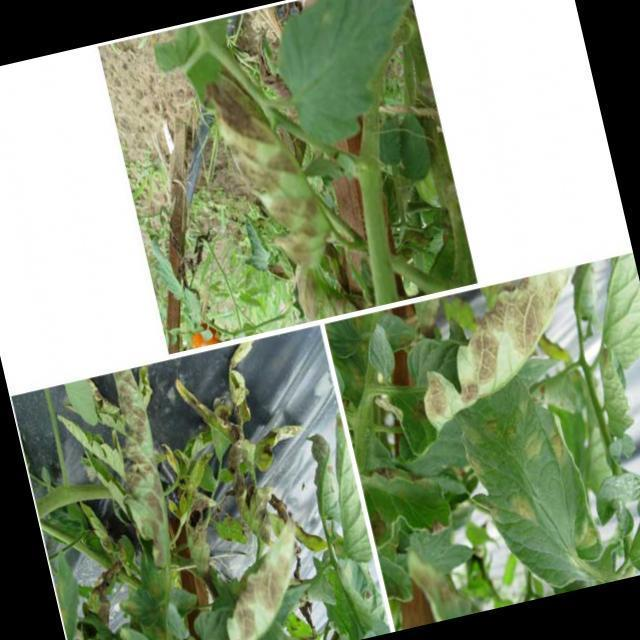Mosaic Virus: (191, 51, 353, 289), (407, 266, 609, 434), (459, 398, 601, 576), (100, 371, 186, 575), (188, 524, 328, 640)
